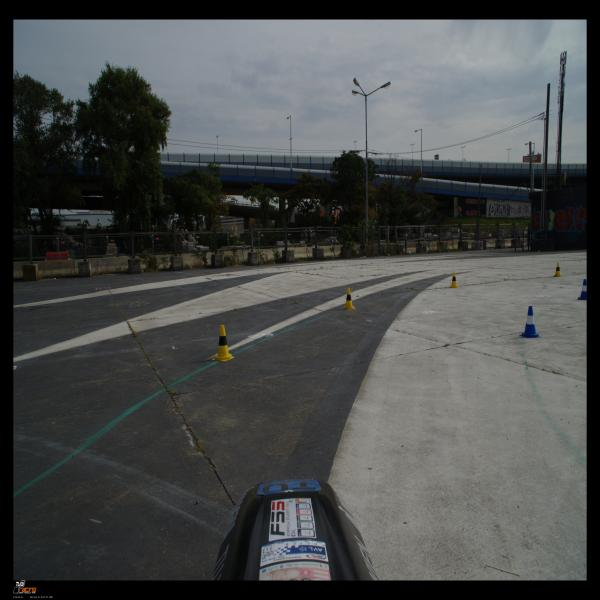blue_cone: (519, 306, 542, 338), (577, 279, 587, 300)
yellow_cone: (212, 325, 234, 361), (342, 288, 356, 310), (552, 263, 563, 276), (450, 272, 458, 288)
